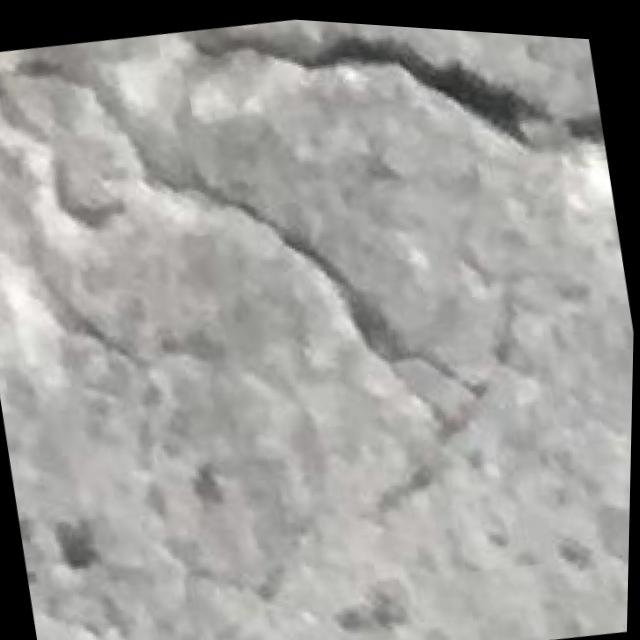Crack: (0, 0, 640, 608)
